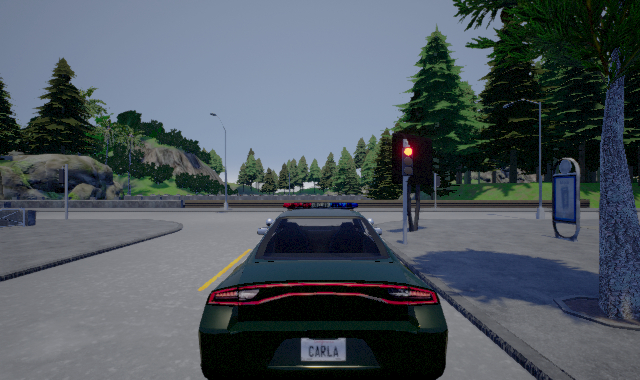traffic_light: (402, 145, 415, 176)
vehicle: (198, 202, 449, 380)
